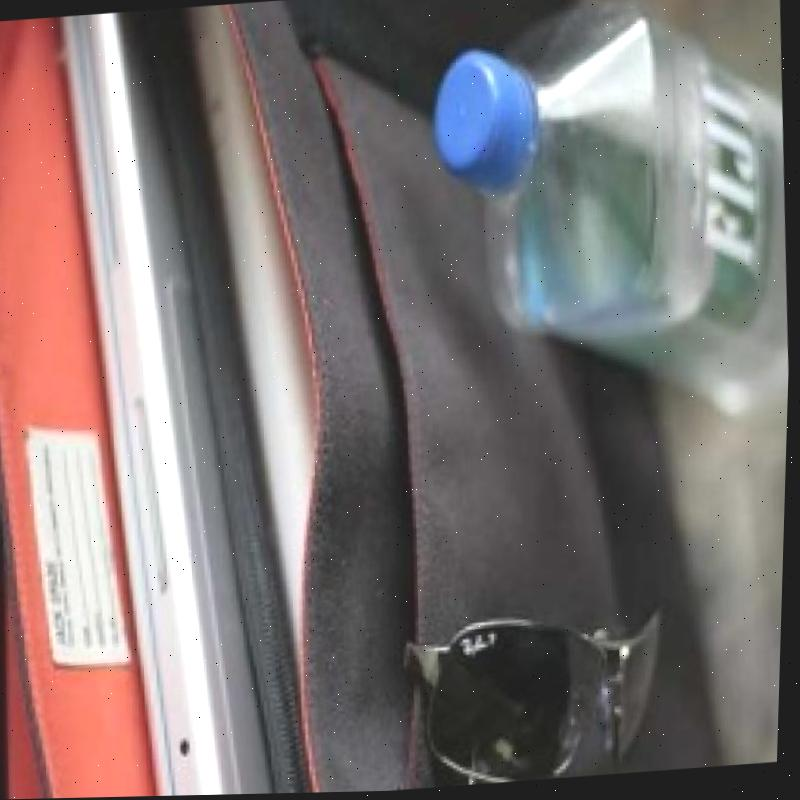botella: (420, 0, 800, 436)
